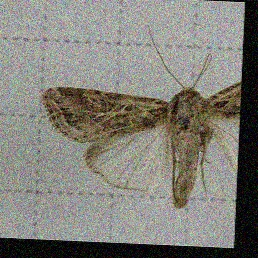Spodoptera litura: (40, 23, 239, 210)
